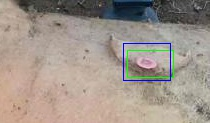text: (127, 50, 173, 77)
